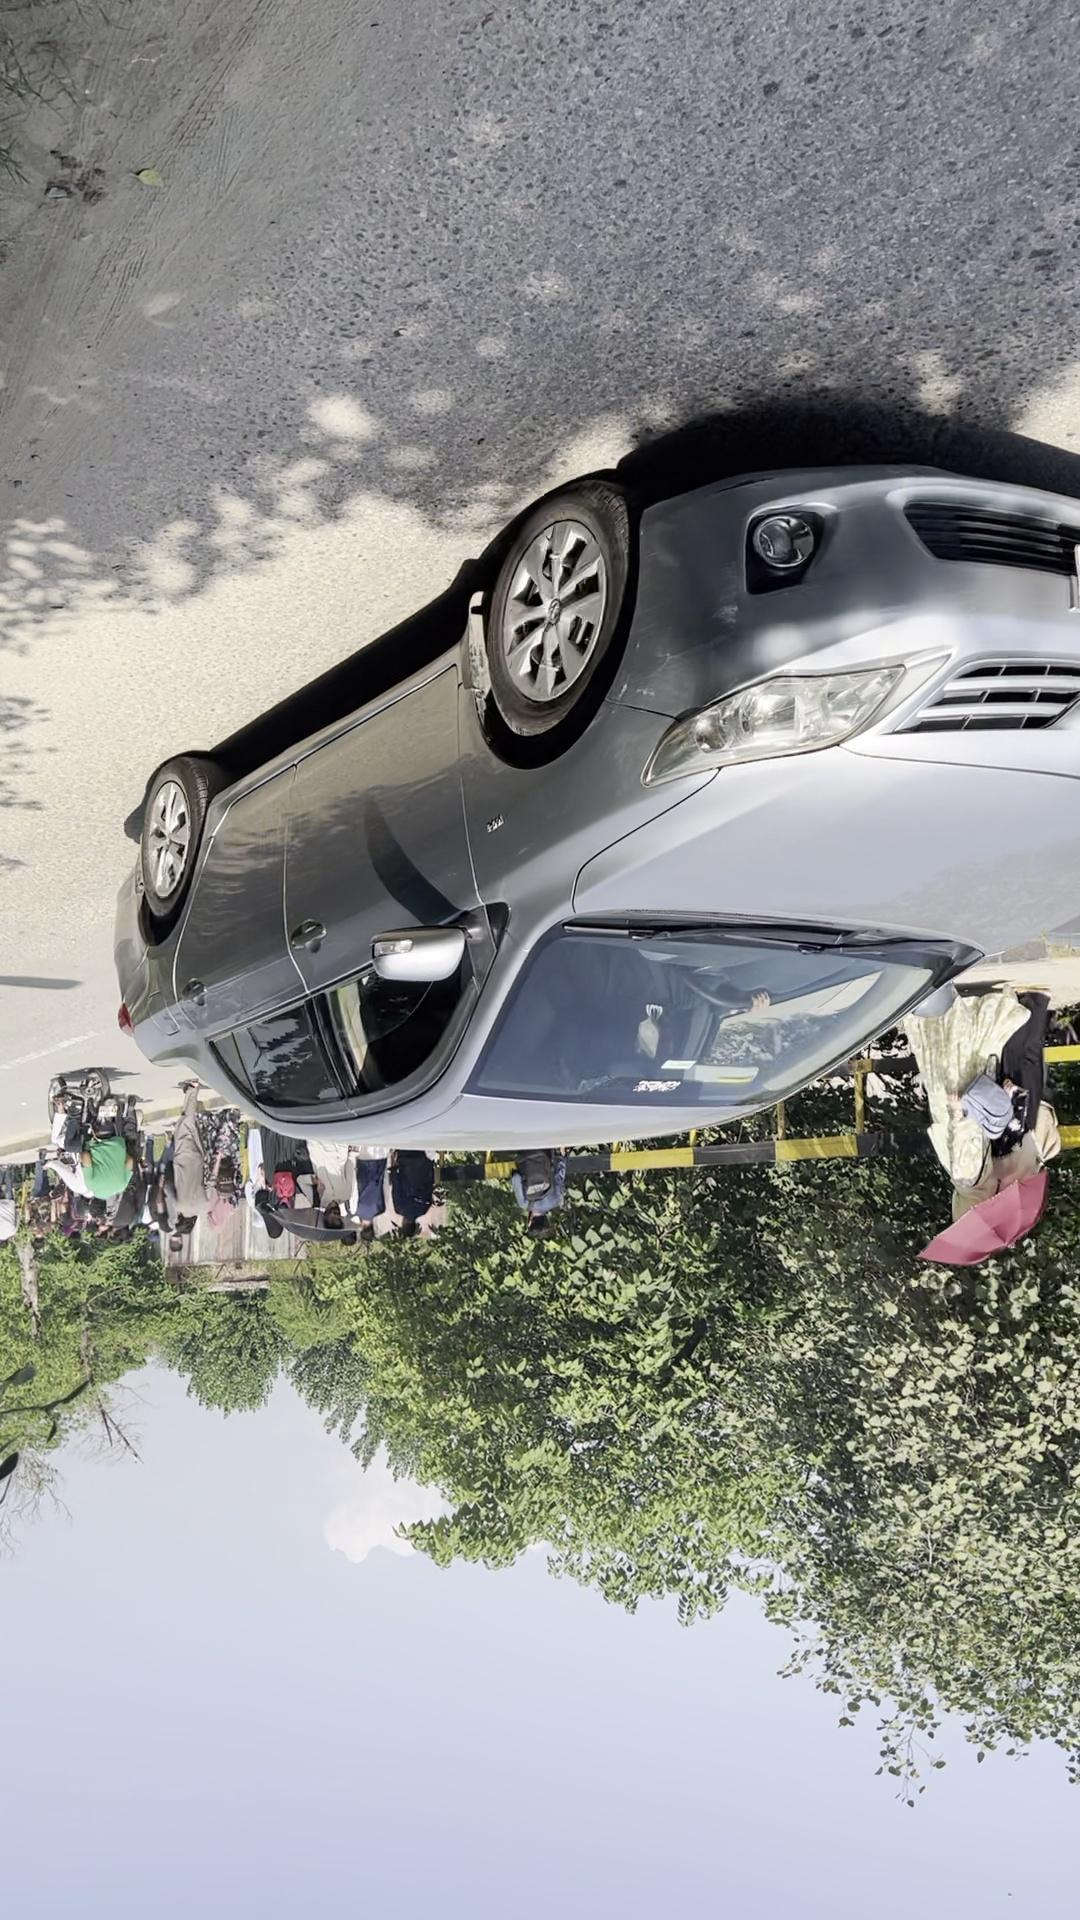windshield: (141, 795, 621, 1005)
